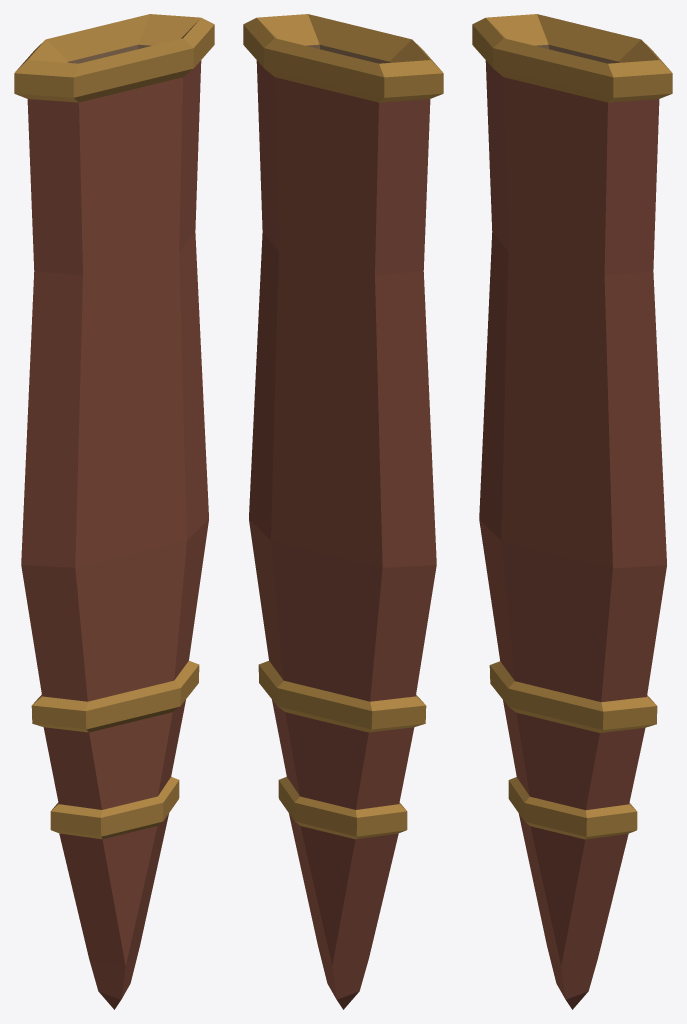
The model's file is SM_pwe_rome_sword_scabbard_03.fbx.
The picture shows the model from 3 angles, left to right: view 1: azimuth 30°, elevation 25°; view 2: azimuth 150°, elevation 25°; view 3: azimuth 330°, elevation 25°; orthographic projection.
Visible parts, largest first — view 1: SM_pwe_rome_sword_scabbard_03; view 2: SM_pwe_rome_sword_scabbard_03; view 3: SM_pwe_rome_sword_scabbard_03.
Boxes of the visible parts, box(x1,y1,x2,y2) form: SM_pwe_rome_sword_scabbard_03: box(14, 14, 214, 1009); SM_pwe_rome_sword_scabbard_03: box(243, 14, 443, 1009); SM_pwe_rome_sword_scabbard_03: box(472, 14, 672, 1009).
Size of the model in its own units: 10.13 by 46.87 by 3.35.
